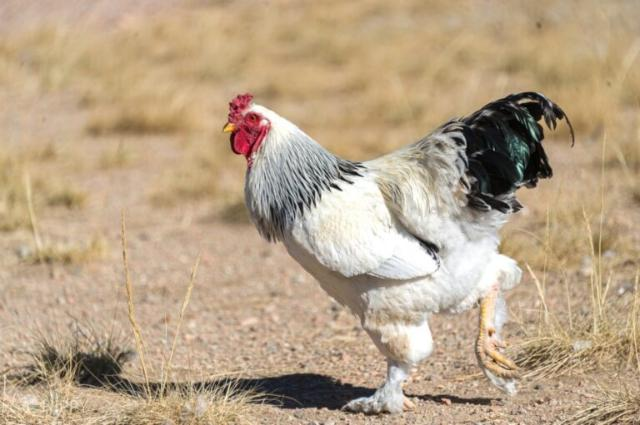Chicken: (224, 91, 574, 415)
